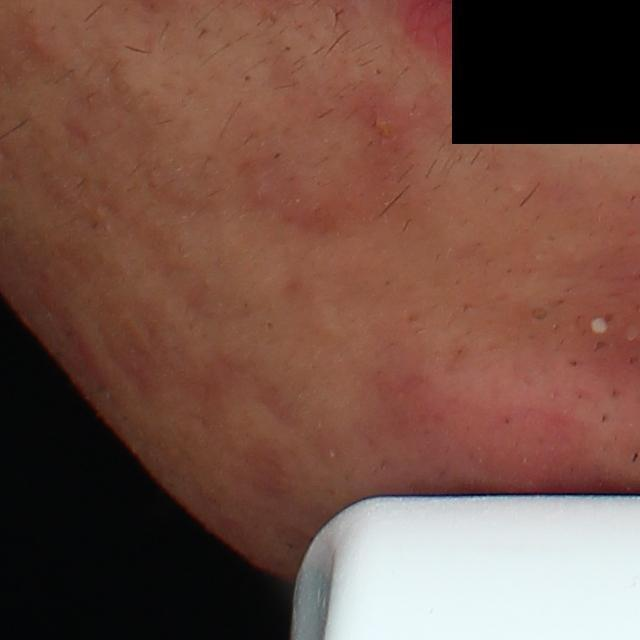comedo: (528, 300, 552, 330)
papule: (17, 14, 67, 59), (364, 95, 404, 148)
pustule: (576, 310, 612, 342)
